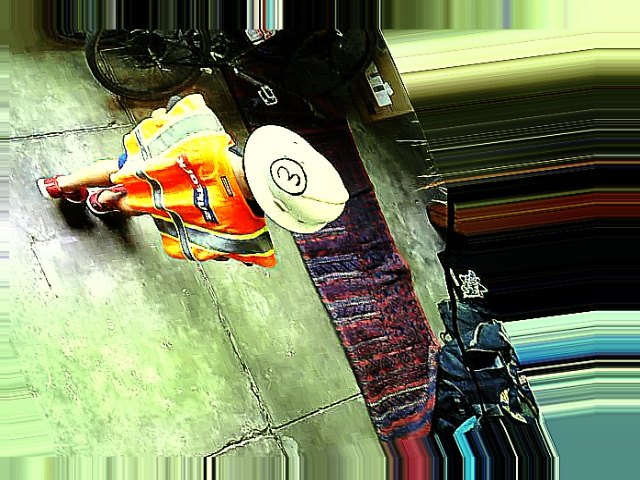three: (264, 155, 313, 196)
